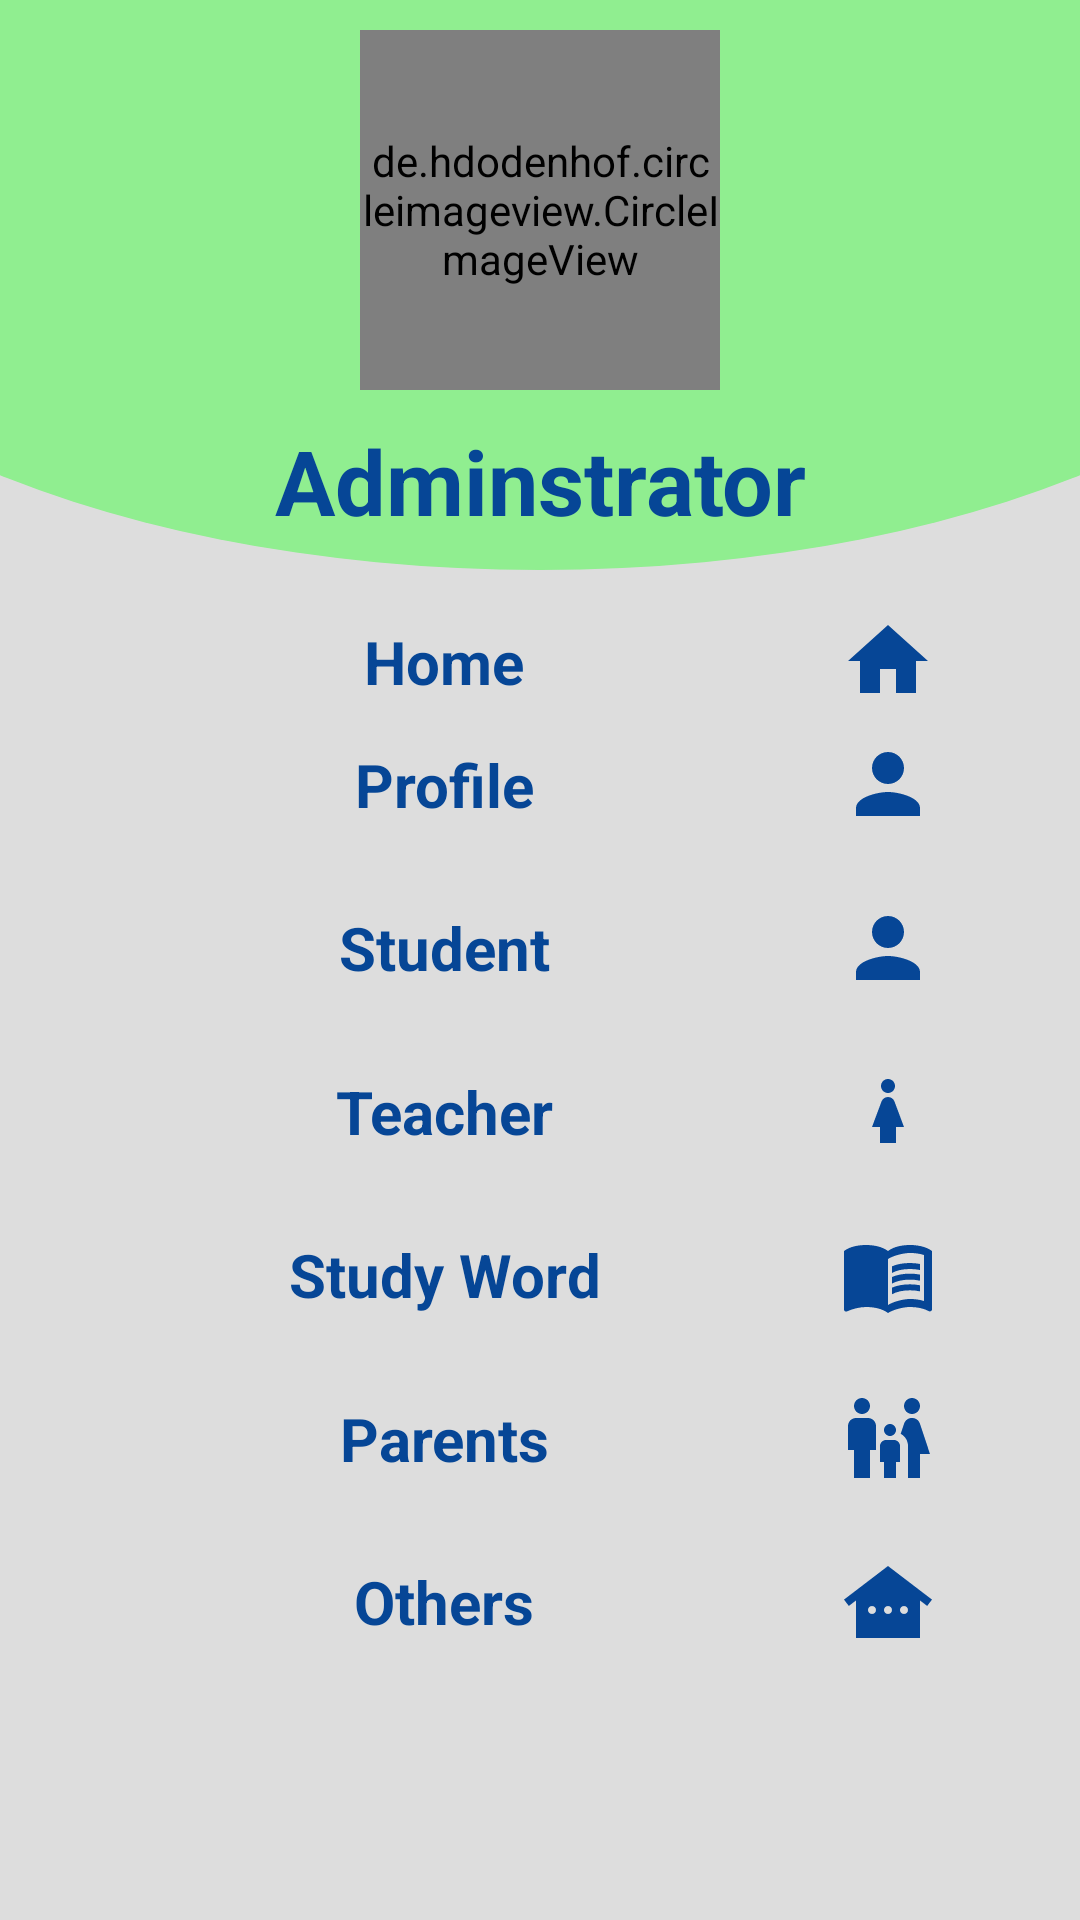

Locate icon controls on the screen. Image size 1080px×1920px, boxes as (x1, y1, x2, y2).
person: (856, 752, 920, 816), (856, 916, 920, 980)
studywork: (844, 1245, 932, 1313)
